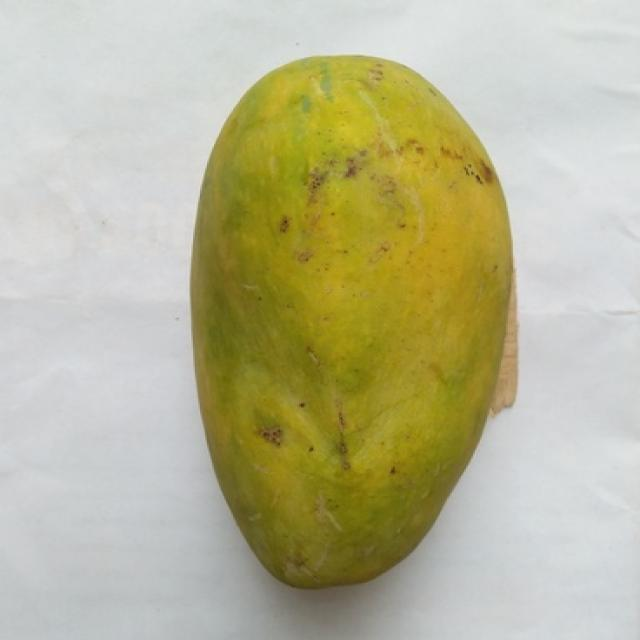Mango: (191, 56, 515, 586)
